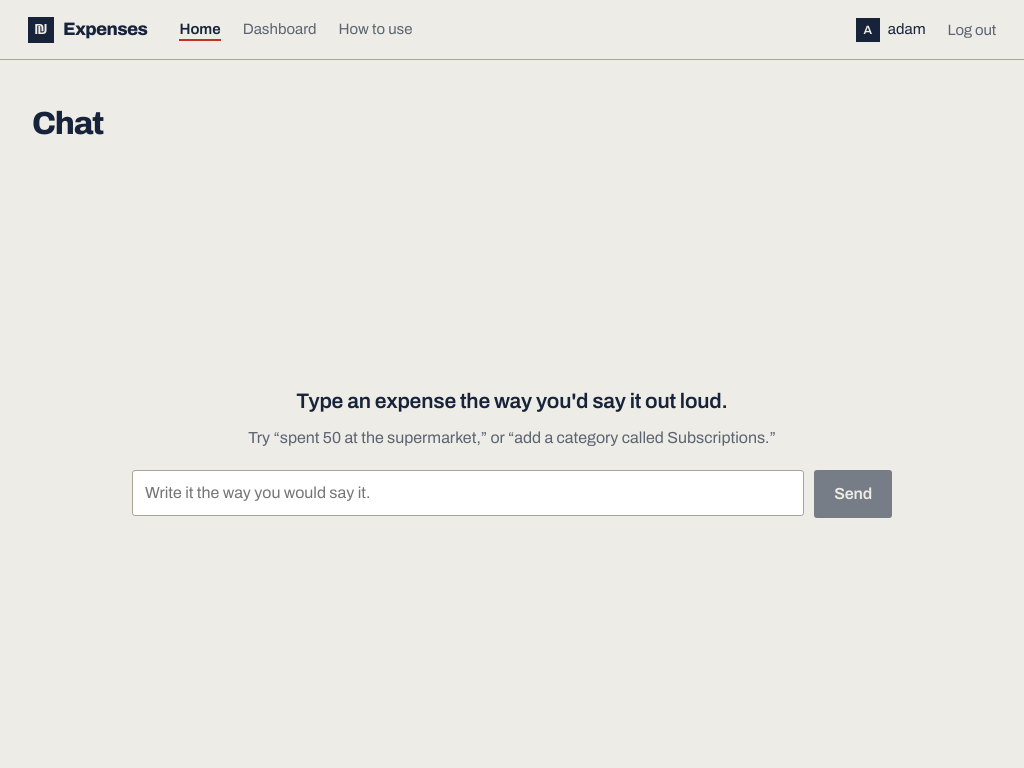
Scenario: HomePage chat › shows the user's own message immediately, before the reply arrives
Step 1. Type "spent 50 at the supermarket" into the field named "message" → [468, 493], box 132,470 -> 804,516
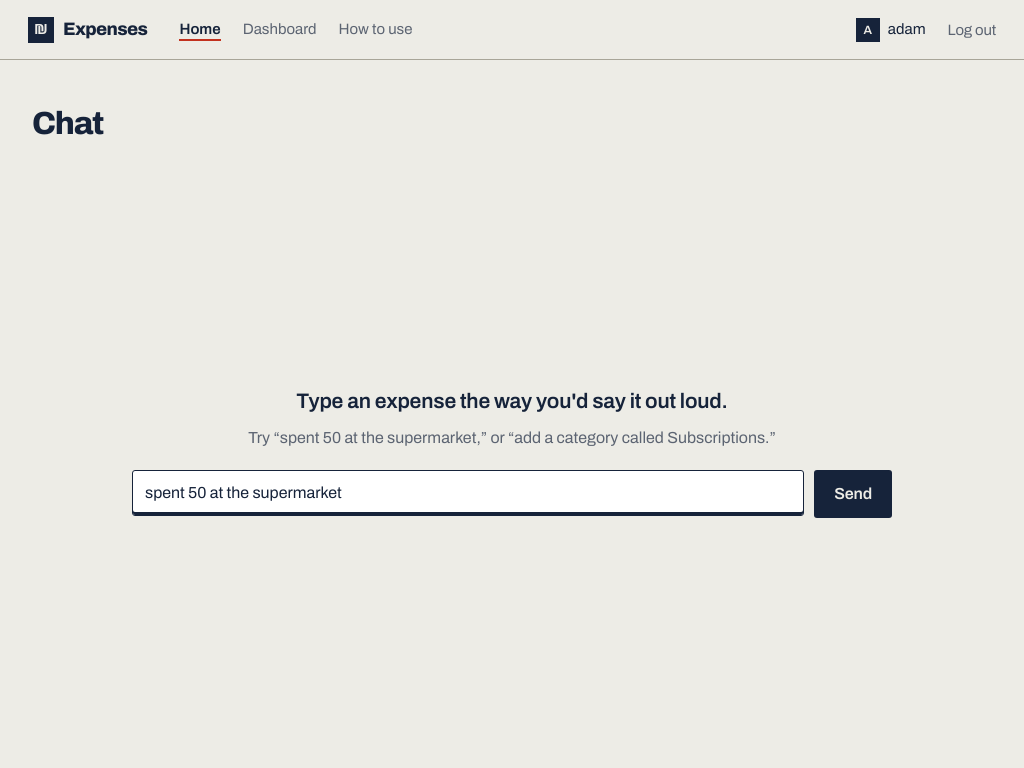
Step 2. Click the button "Send" → [853, 494], box 814,470 -> 892,518
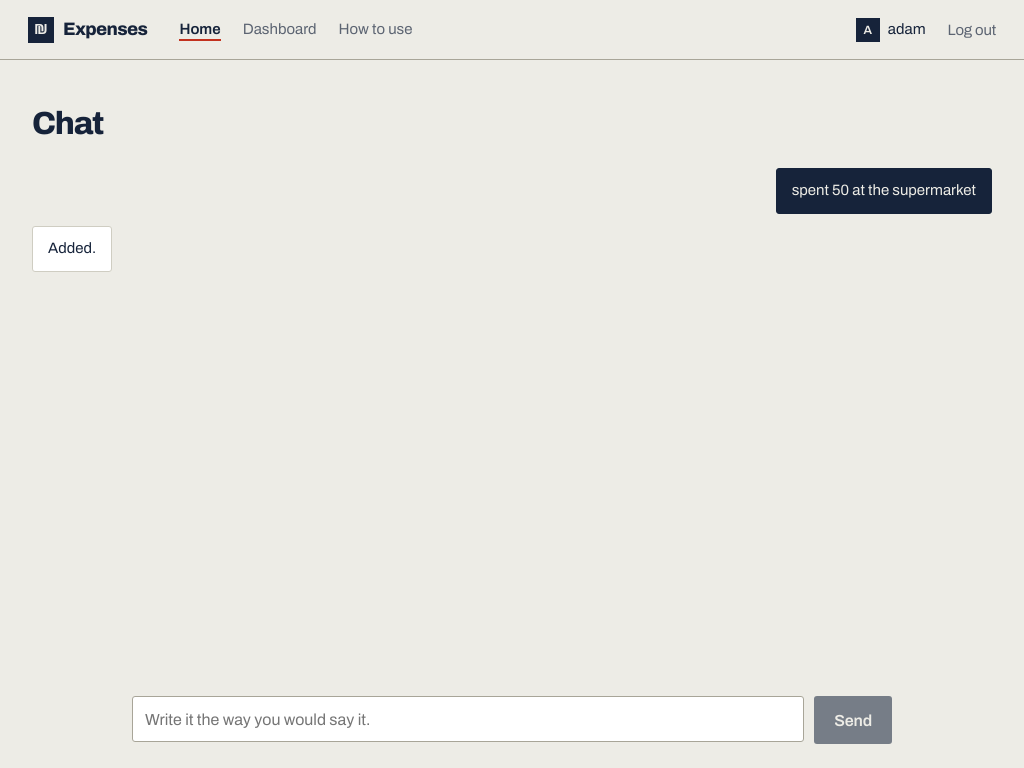
Expected: the list item "spent 50 at the supermarket" is shown, 776,168 -> 992,214
Expected: the text "Type an expense the way" is gone
Expected: the list item "Added." is shown, 32,226 -> 112,272
